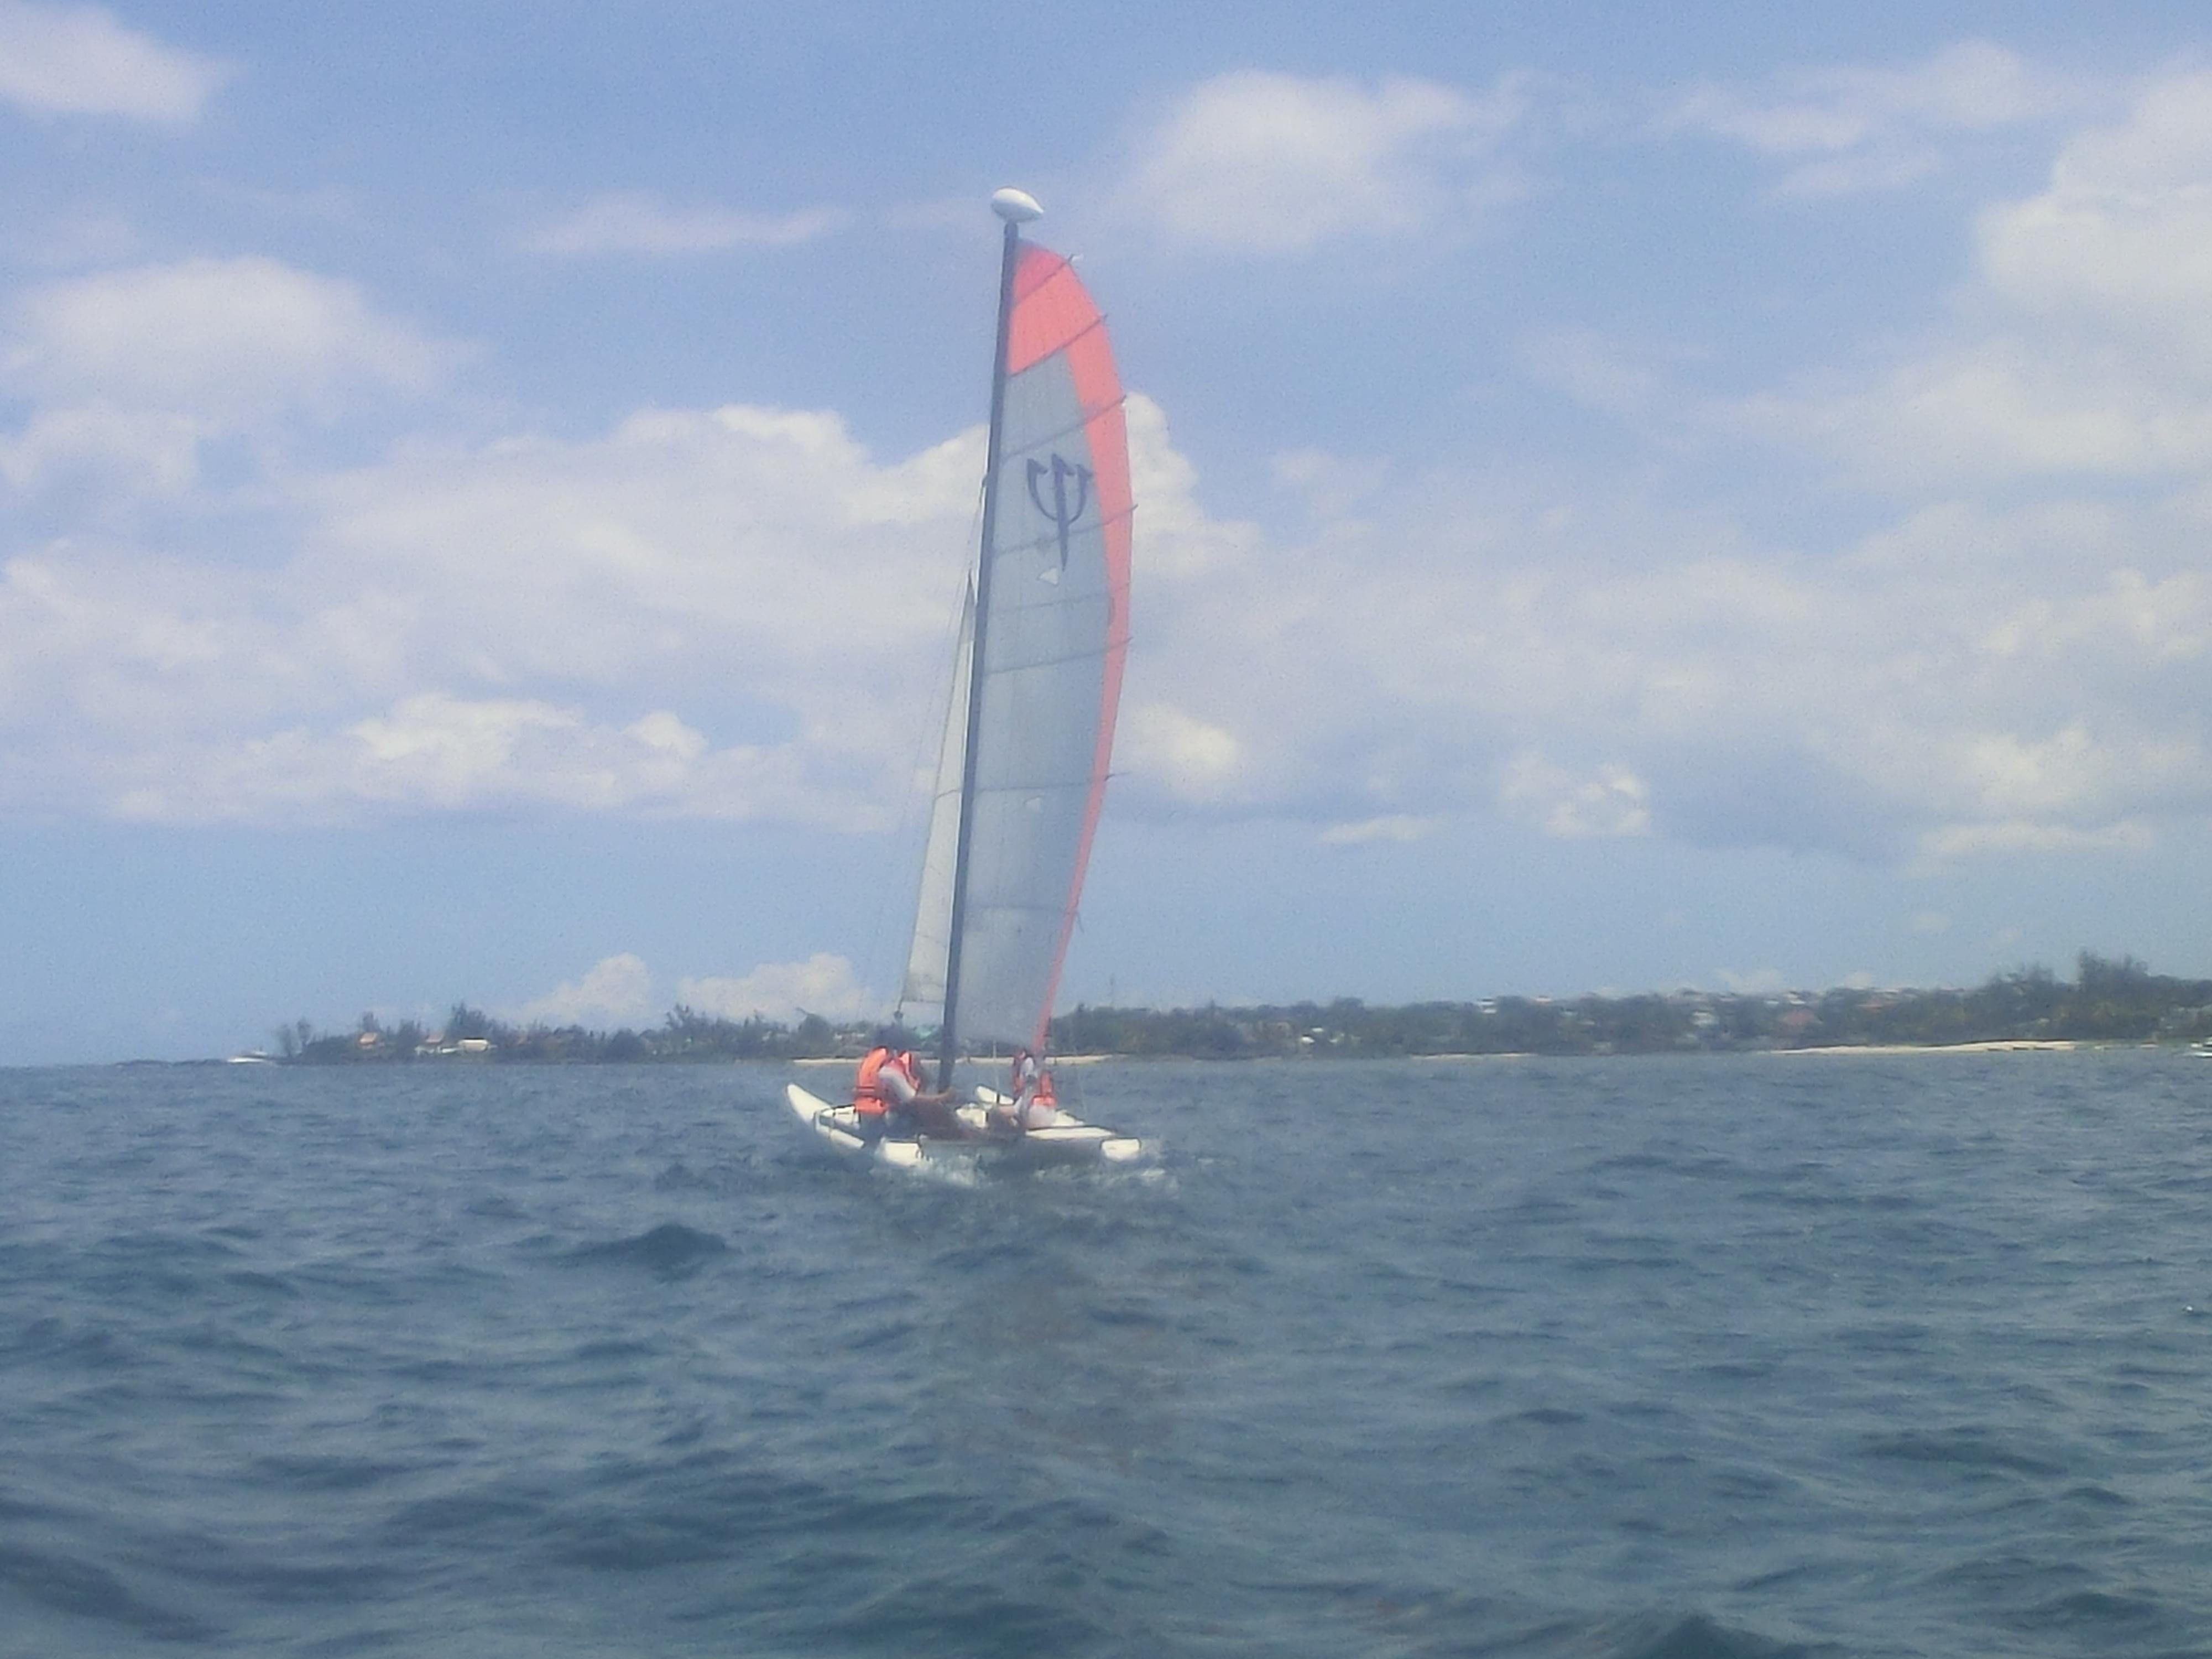fanchuan: (815, 159, 1245, 1218)
